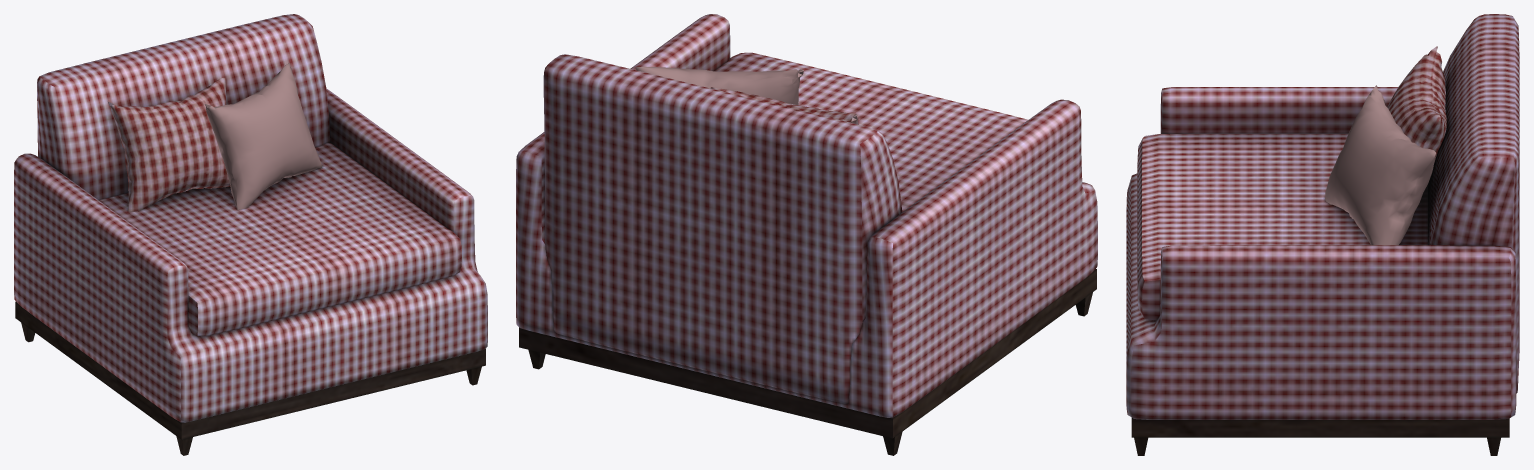
Rendered from triptis_accent_chair.fbx.
3 renders of one model, left to right at view 1: azimuth 30°, elevation 25°; view 2: azimuth 150°, elevation 25°; view 3: azimuth 270°, elevation 25°, orthographic. The views are drawn at different scales.
Parts seen in each view (by area): view 1: Triptis Accent Chair; view 2: Triptis Accent Chair; view 3: Triptis Accent Chair.
Part boxes in pixels (box(x1,y1,x2,y2)): Triptis Accent Chair: box(14, 14, 487, 455); Triptis Accent Chair: box(516, 14, 1097, 455); Triptis Accent Chair: box(1126, 14, 1519, 455).
Bounding box in the file's own units: 1.38 × 1.09 × 1.33.
